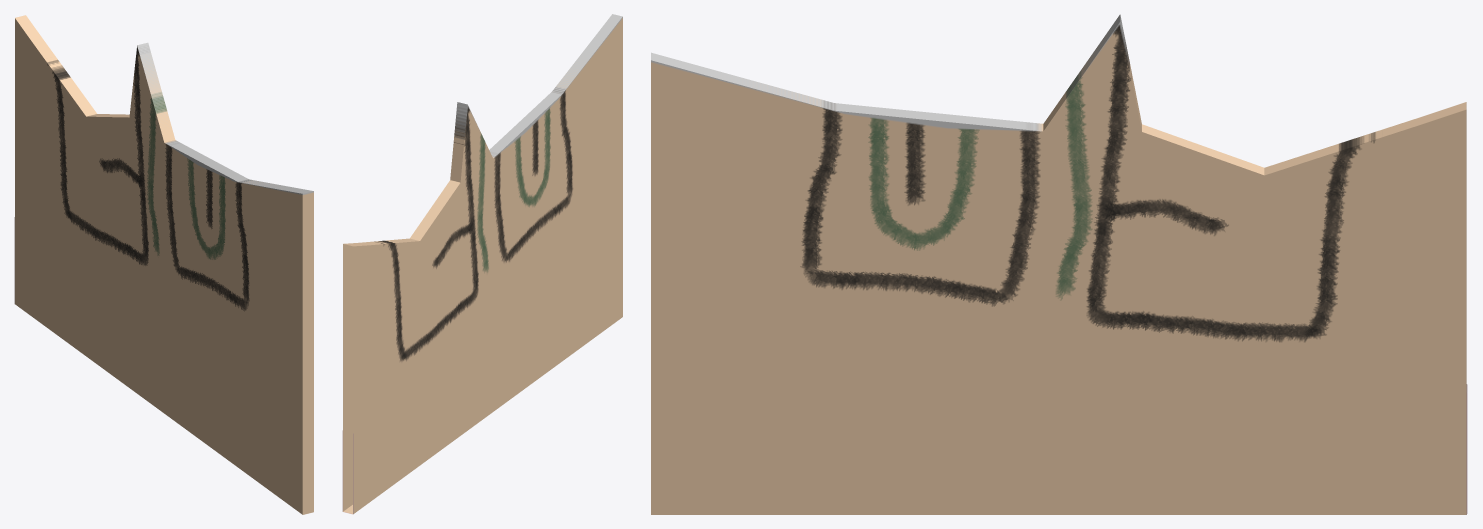
The model's file is Puzzle4_PaintingPiece.fbx.
3 renders of one model, left to right at view 1: azimuth 30°, elevation 25°; view 2: azimuth 150°, elevation 25°; view 3: azimuth 270°, elevation 25°, orthographic. The views are drawn at different scales.
Visible parts, largest first — view 1: Painting_RippedUp_Bottom; view 2: Painting_RippedUp_Bottom; view 3: Painting_RippedUp_Bottom.
Boxes of the visible parts, bbox=[...] form: Painting_RippedUp_Bottom: bbox=[14, 15, 313, 514]; Painting_RippedUp_Bottom: bbox=[342, 14, 622, 514]; Painting_RippedUp_Bottom: bbox=[651, 14, 1467, 514].
Bounding box in the file's own units: 2 × 59.91 × 90.
